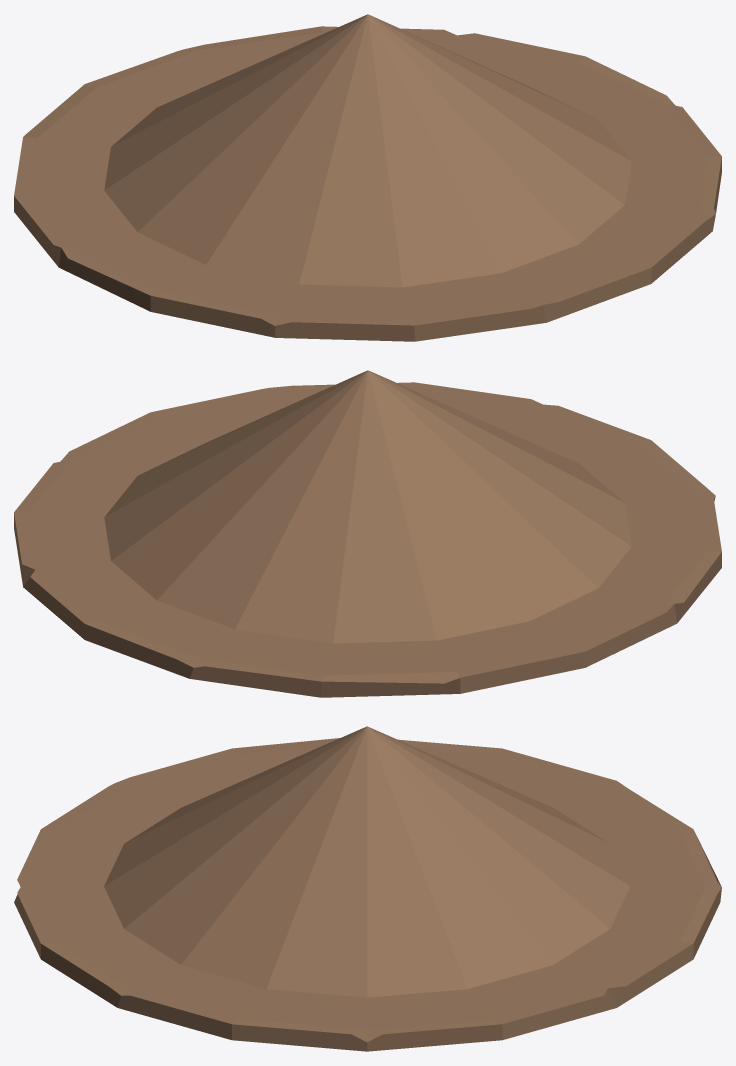
Rendered from monk_hat.glb.
3 renders of one model, top to bottom at view 1: azimuth 30°, elevation 25°; view 2: azimuth 150°, elevation 25°; view 3: azimuth 270°, elevation 25°, orthographic.
Parts seen in each view (by area): view 1: Hat.003_HatsMaterial_0.001; view 2: Hat.003_HatsMaterial_0.001; view 3: Hat.003_HatsMaterial_0.001.
Boxes of the visible parts, box(x1,y1,x2,y2) form: Hat.003_HatsMaterial_0.001: box(14, 14, 721, 341); Hat.003_HatsMaterial_0.001: box(14, 370, 721, 697); Hat.003_HatsMaterial_0.001: box(14, 726, 721, 1051).
Size of the model in its own units: 0.3991 by 0.1098 by 0.4.
Materials: 1 (1 with a texture image).
